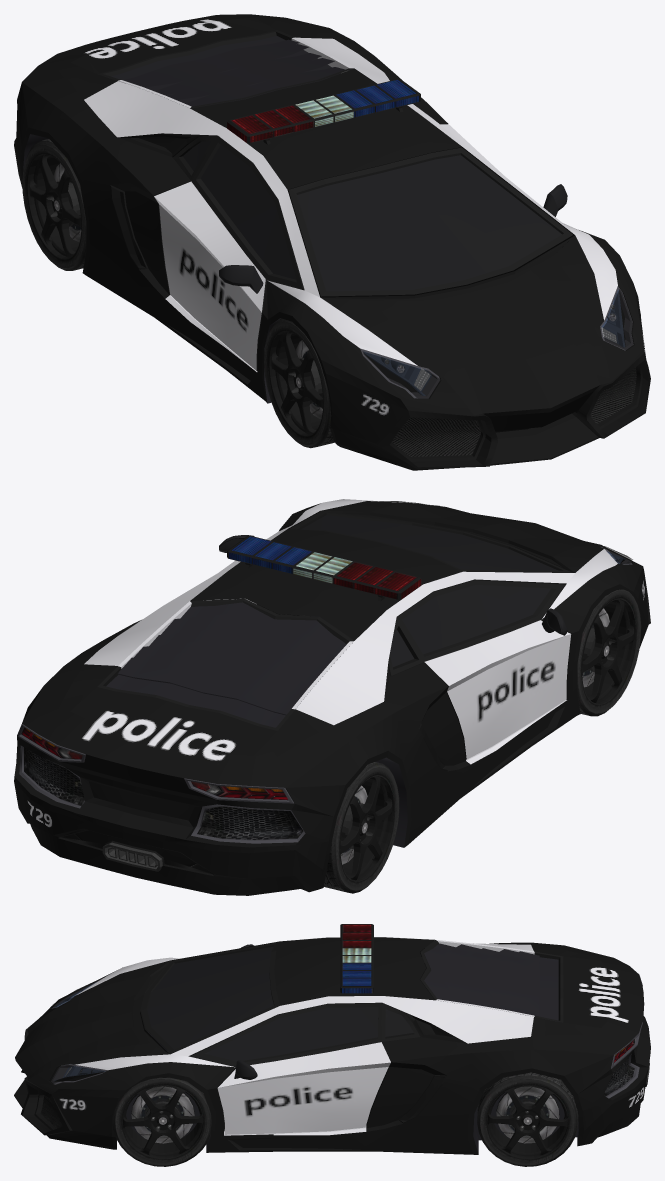
Rendered from PoliceCar.FBX.
3 renders of one model, top to bottom at view 1: azimuth 30°, elevation 25°; view 2: azimuth 150°, elevation 25°; view 3: azimuth 270°, elevation 25°, orthographic. The views are drawn at different scales.
Visible parts, largest first — view 1: Body, FR, BR; view 2: Body, BR, FR; view 3: Body, BL, FL.
Part boxes in pixels (x1,y1,x2,y2): Body: [14, 14, 650, 470]; FR: [264, 318, 334, 448]; BR: [22, 139, 86, 270]; Body: [14, 499, 650, 895]; BR: [323, 762, 399, 893]; FR: [577, 589, 641, 716]; Body: [14, 924, 650, 1154]; BL: [477, 1072, 578, 1166]; FL: [112, 1077, 211, 1166].
Bounding box in the file's own units: 19.85 × 11.27 × 42.08.
